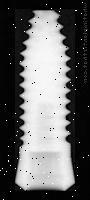OCO Biomedical: (15, 9, 75, 191)
